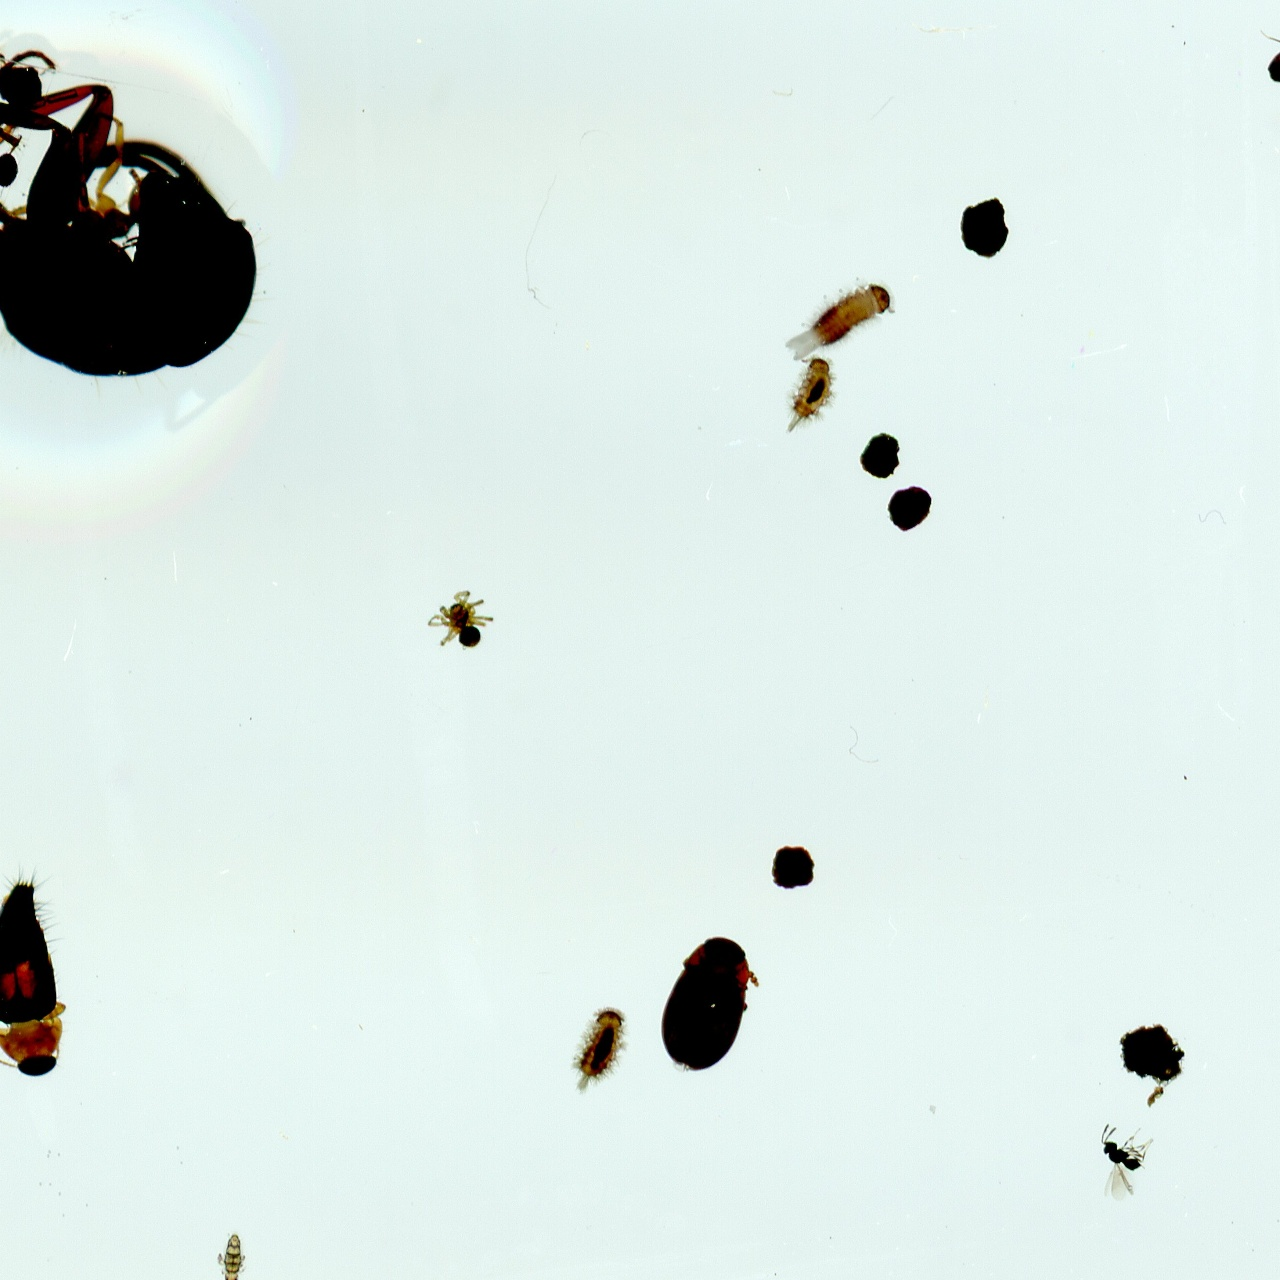arthropod: (0, 32, 261, 390), (0, 863, 74, 1095), (656, 932, 760, 1077), (781, 279, 898, 356), (1089, 1122, 1156, 1196), (570, 1003, 624, 1092), (423, 584, 492, 653), (781, 359, 836, 438), (207, 1224, 252, 1280), (1260, 27, 1280, 91)
